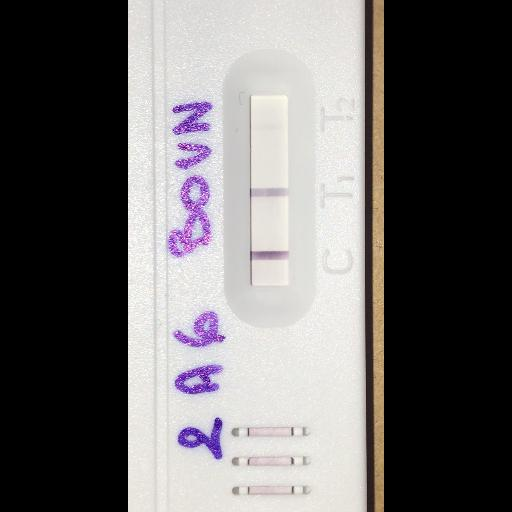Pos: (128, 0, 368, 510)
